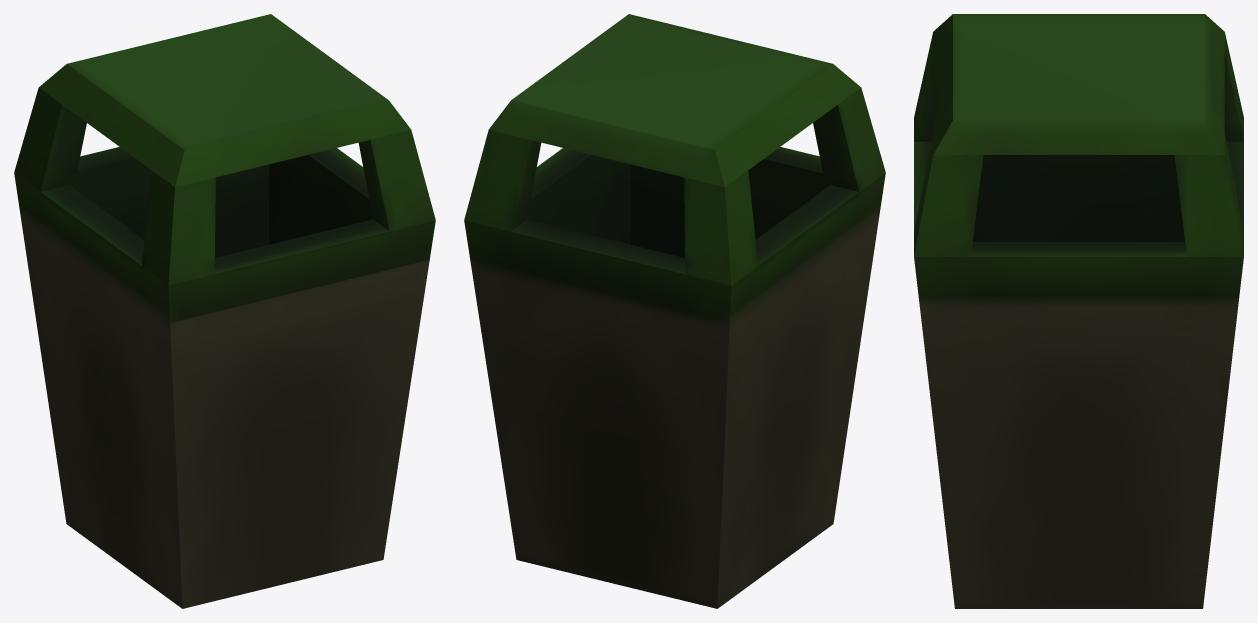
Rendered from bin.obj.
3 views of the same model, side by side, from view 1: azimuth 30°, elevation 25°; view 2: azimuth 150°, elevation 25°; view 3: azimuth 270°, elevation 25° (orthographic). The views are drawn at different scales.
Parts seen in each view (by area): view 1: bin; view 2: bin; view 3: bin.
Boxes of the visible parts, x1,y1,x2,y2 form: bin: (14, 14, 435, 608); bin: (464, 14, 885, 608); bin: (914, 14, 1243, 608).
Size of the model in its own units: 0.539 by 0.8846 by 0.539.
